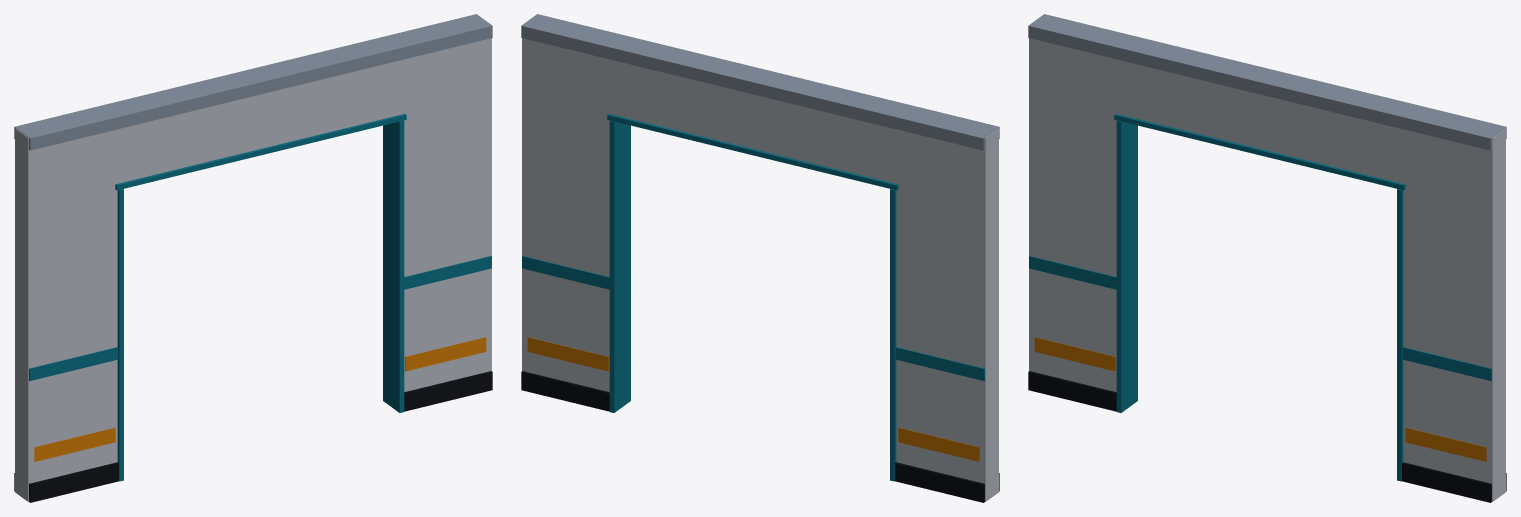
Rendered from SM_Wall_Gate_4x3.glb.
3 views of the same model, side by side, from view 1: azimuth 30°, elevation 25°; view 2: azimuth 150°, elevation 25°; view 3: azimuth 330°, elevation 25° (orthographic).
Parts seen in each view (by area): view 1: SM_Wall_Gate_4x3-col; view 2: SM_Wall_Gate_4x3-col; view 3: SM_Wall_Gate_4x3-col.
Boxes of the visible parts, x1=… form: SM_Wall_Gate_4x3-col: x1=14, y1=14, x2=492, y2=502; SM_Wall_Gate_4x3-col: x1=521, y1=14, x2=999, y2=502; SM_Wall_Gate_4x3-col: x1=1028, y1=14, x2=1506, y2=502.
Size of the model in its own units: 4 by 3 by 0.25.
